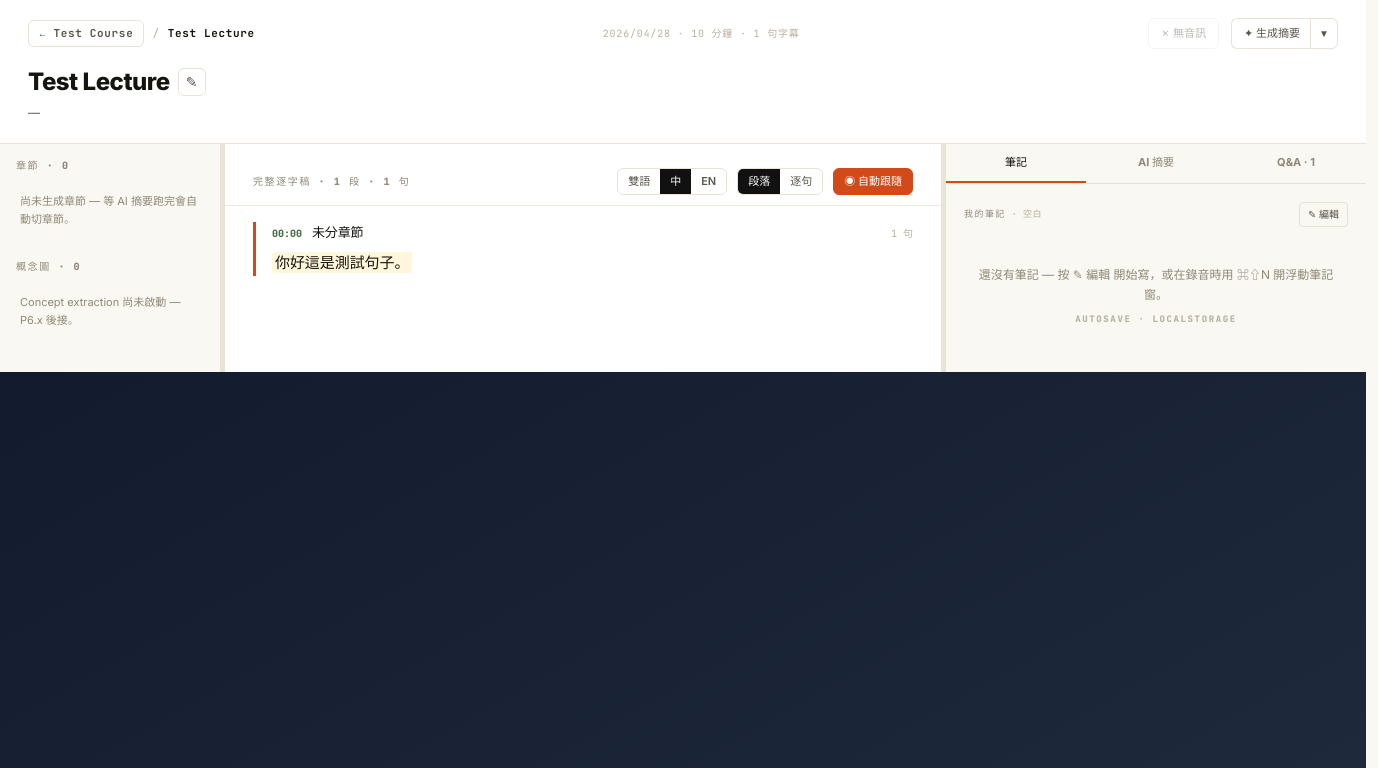
Test case: H18ReviewPage · cp75.36 markdown rendering in Q&A tab › QA answer renders bullet list as <ul><li>
Click the button "Q&A · 1". click: x=1296, y=163
box: [1226,144,1366,183]
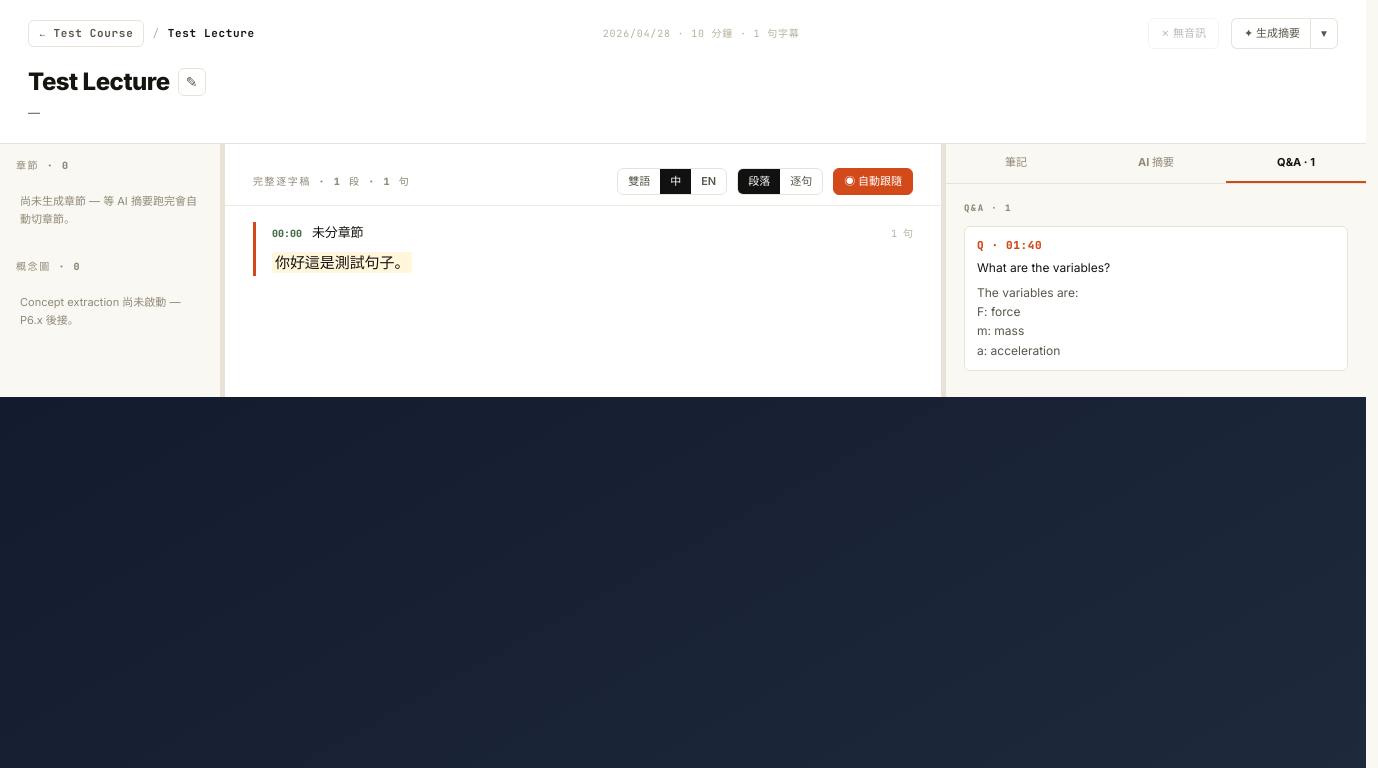
Expected: the number of list items is 3, [977,304,1020,319]; [977,323,1024,338]; [977,343,1060,358]
Expected: the list item "F: force" is shown, [977,304,1020,319]
Expected: the list item "m: mass" is shown, [977,323,1024,338]
